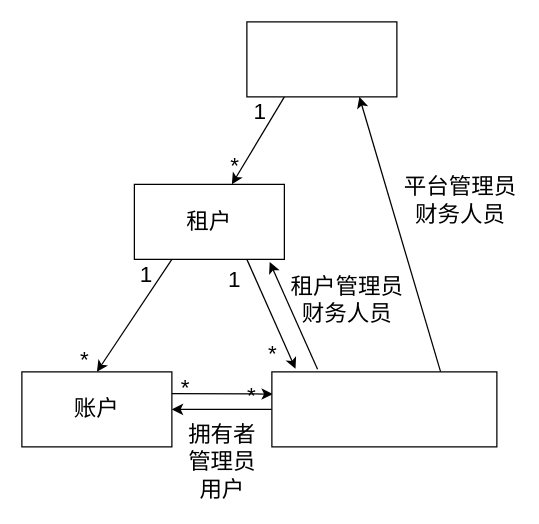
Some shapes in this 539 by 524 pixel diagram are drawn without their labels. The shapes that lost their labels are listed below. From the top down, each one's box as (x1, y1, x2, y2) in pixels, then its label:
(246, 21, 397, 97): 平台
(271, 371, 497, 447): 用户
